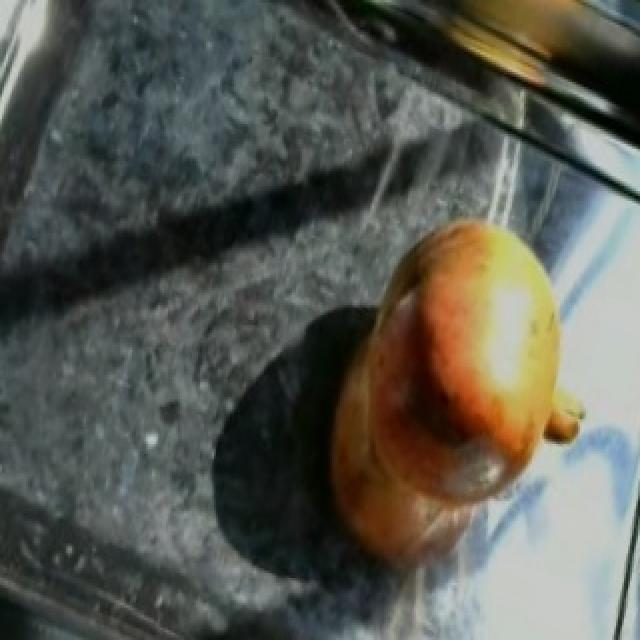fruit: (328, 206, 620, 541)
